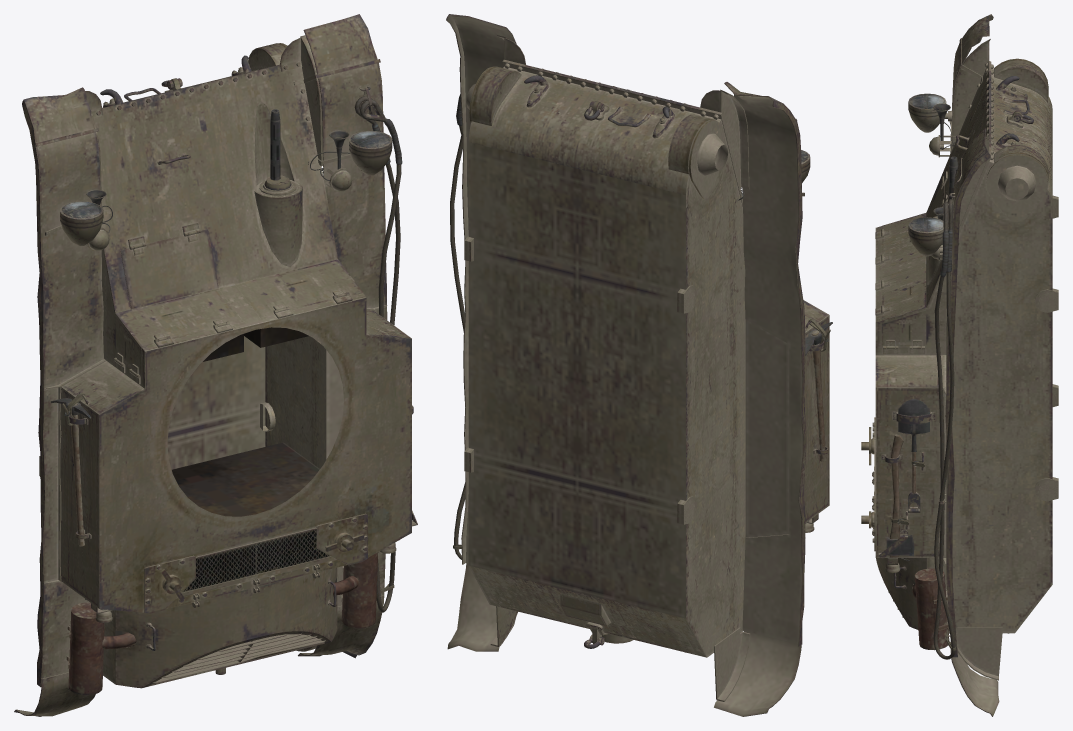
The model's file is Hull.glb.
The picture shows the model from 3 angles, left to right: view 1: azimuth 30°, elevation 25°; view 2: azimuth 150°, elevation 25°; view 3: azimuth 270°, elevation 25°; orthographic projection. The views are drawn at different scales.
Visible parts, largest first — view 1: set_0_group_0; view 2: set_0_group_0; view 3: set_0_group_0.
Part boxes in pixels (box(x1,y1,x2,y2)): set_0_group_0: box(14, 14, 417, 716); set_0_group_0: box(446, 14, 832, 716); set_0_group_0: box(861, 14, 1058, 716).
Size of the model in its own units: 2.49 by 4.24 by 1.34.
1 material, 1 textured.
